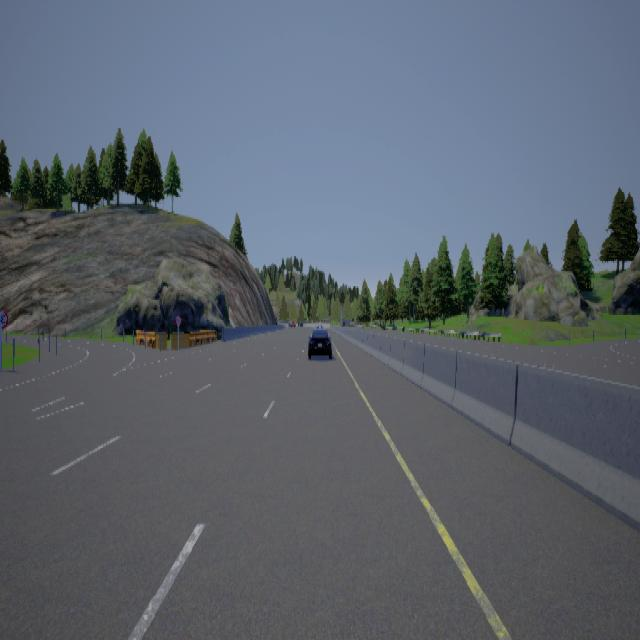traffic_sign: (1, 308, 9, 327), (176, 314, 183, 324)
vehicle: (309, 323, 333, 359)
